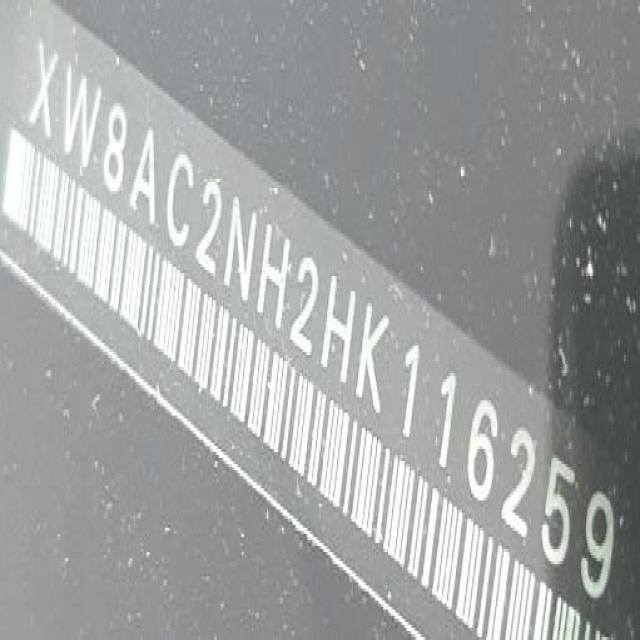1: (422, 355, 464, 493), (389, 330, 431, 460)
2: (492, 406, 547, 558), (191, 158, 231, 286), (288, 244, 327, 373)
5: (532, 445, 586, 585)
6: (466, 392, 498, 507)
8: (95, 90, 133, 206)
9: (571, 478, 628, 612)
A: (125, 116, 167, 232)
C: (159, 141, 201, 262)
H: (253, 210, 298, 346), (319, 271, 356, 382)
K: (353, 292, 388, 419)
N: (216, 188, 262, 318)
W: (53, 46, 108, 179)
X: (25, 31, 62, 144)
